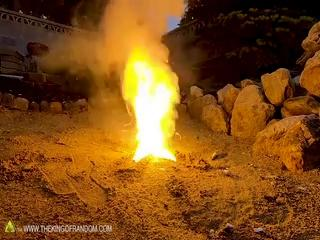Fire: (118, 32, 178, 161)
